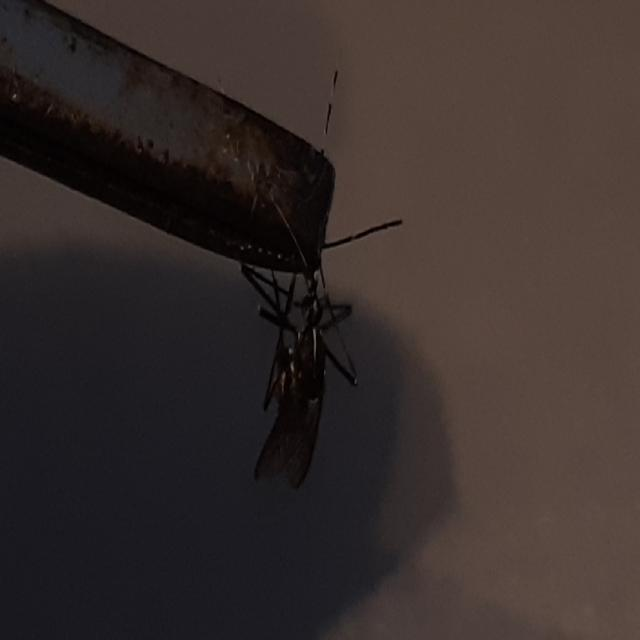albopictus: (195, 44, 411, 492)
